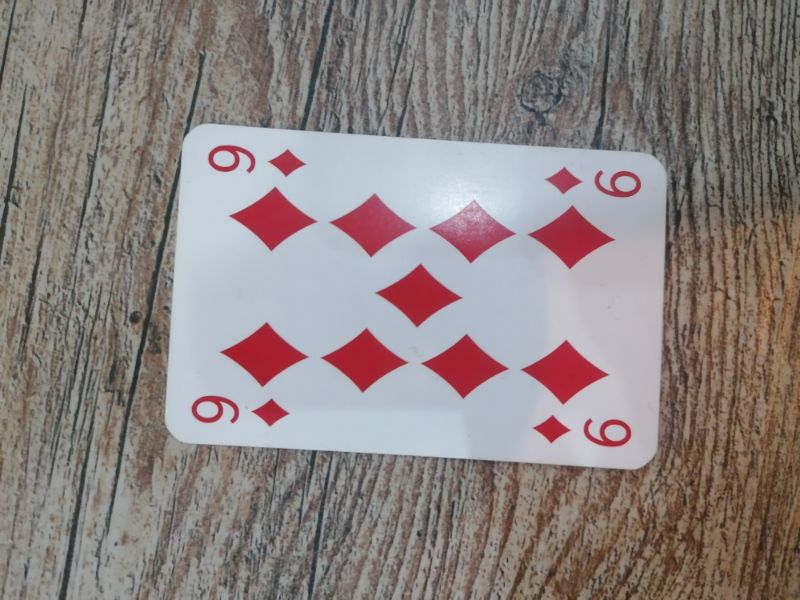9d: (204, 140, 310, 182), (530, 412, 634, 452), (545, 163, 646, 203), (190, 393, 293, 431)
